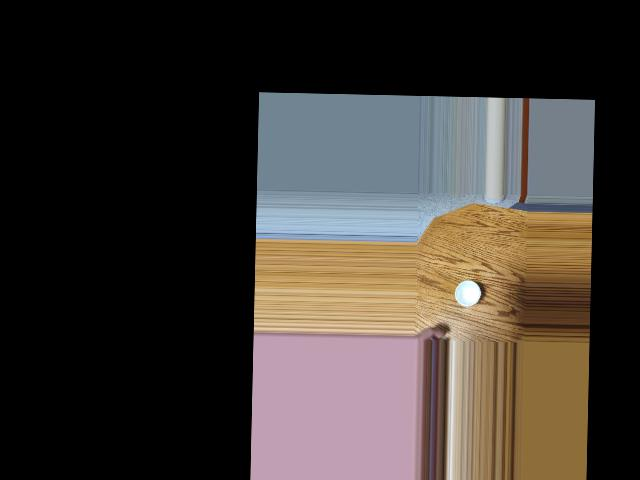cotage: (452, 279, 480, 308)
